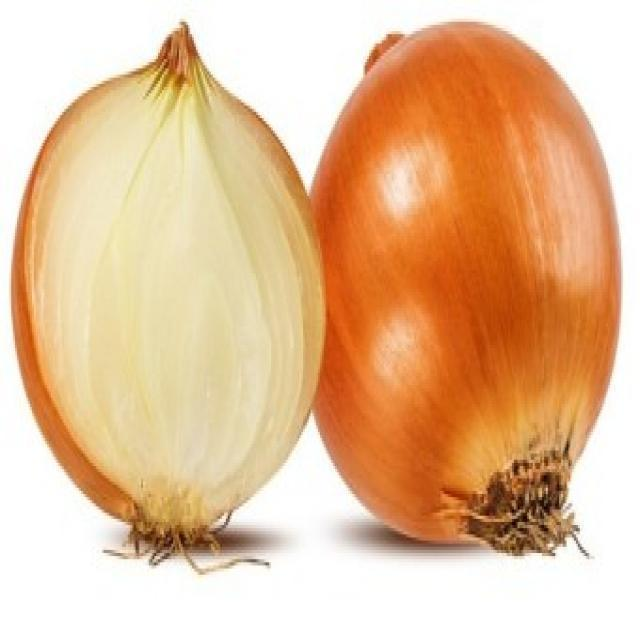Onion: (8, 18, 327, 577), (310, 19, 623, 555)
